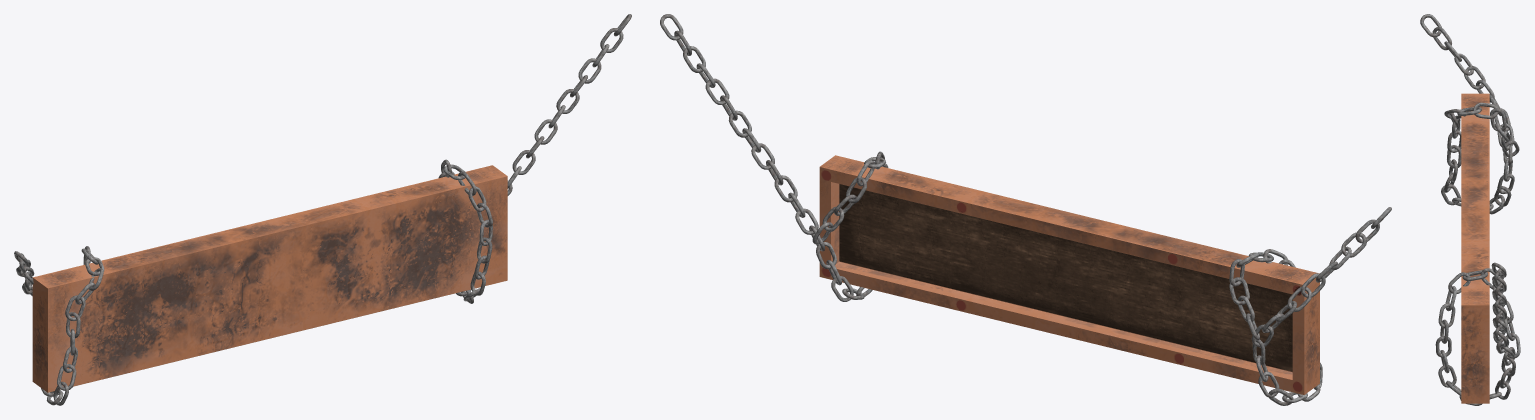
Rendered from credit.glb.
The picture shows the model from 3 angles, left to right: view 1: azimuth 30°, elevation 25°; view 2: azimuth 150°, elevation 25°; view 3: azimuth 270°, elevation 25°; orthographic projection. The views are drawn at different scales.
Parts seen in each view (by area): view 1: credit, cell; view 2: credit, cell; view 3: credit, cell.
Boxes of the visible parts, x1,y1,x2,y2 form: credit: (32, 165, 507, 392); cell: (14, 14, 631, 405); credit: (819, 155, 1319, 394); cell: (660, 14, 1391, 405); credit: (1461, 93, 1489, 403); cell: (1420, 14, 1520, 405).
Bounding box in the file's own units: 5.92 × 2.04 × 0.8357.
2 materials, 2 textured.
